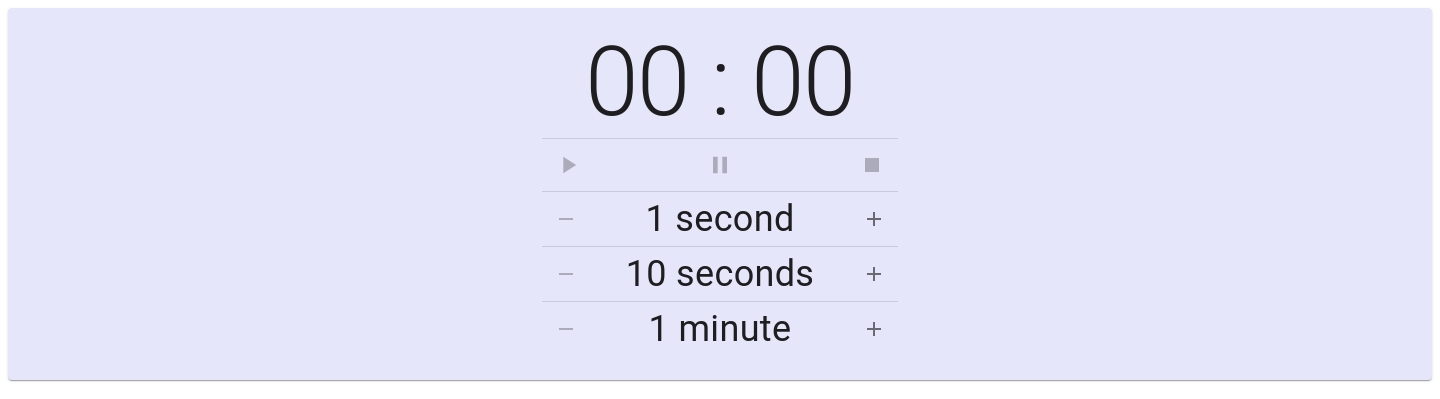
Test case: <Timer /> › when timer is at default state › adding time enables all subtraction, start, and reset buttons
// user adds 1 minute to timer
Step 1. Click the button named "add 1 minute" → (874,329), box [850, 305, 898, 353]
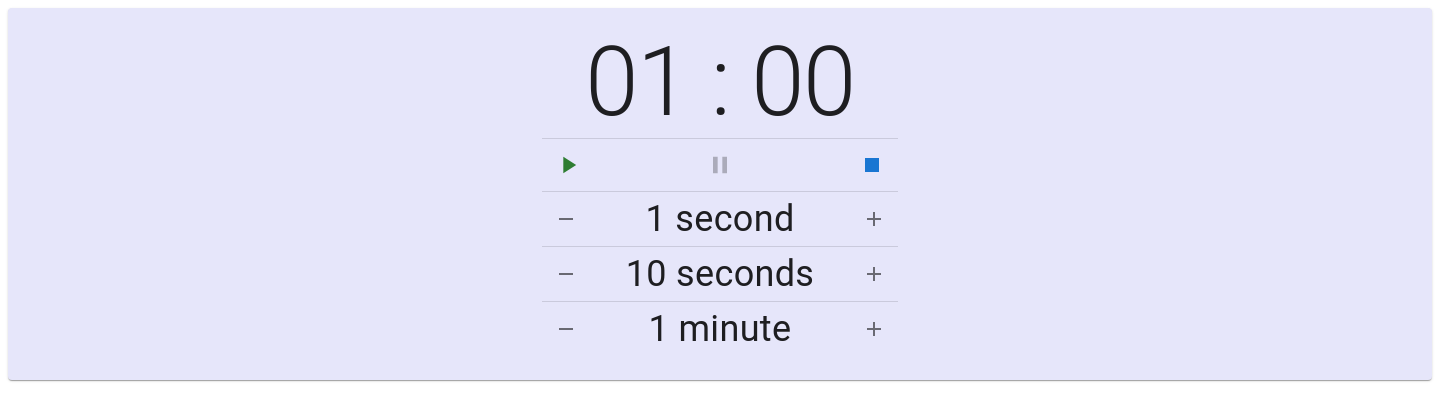
Expected: the heading "01 : 00" is shown, [585, 26, 855, 138]
